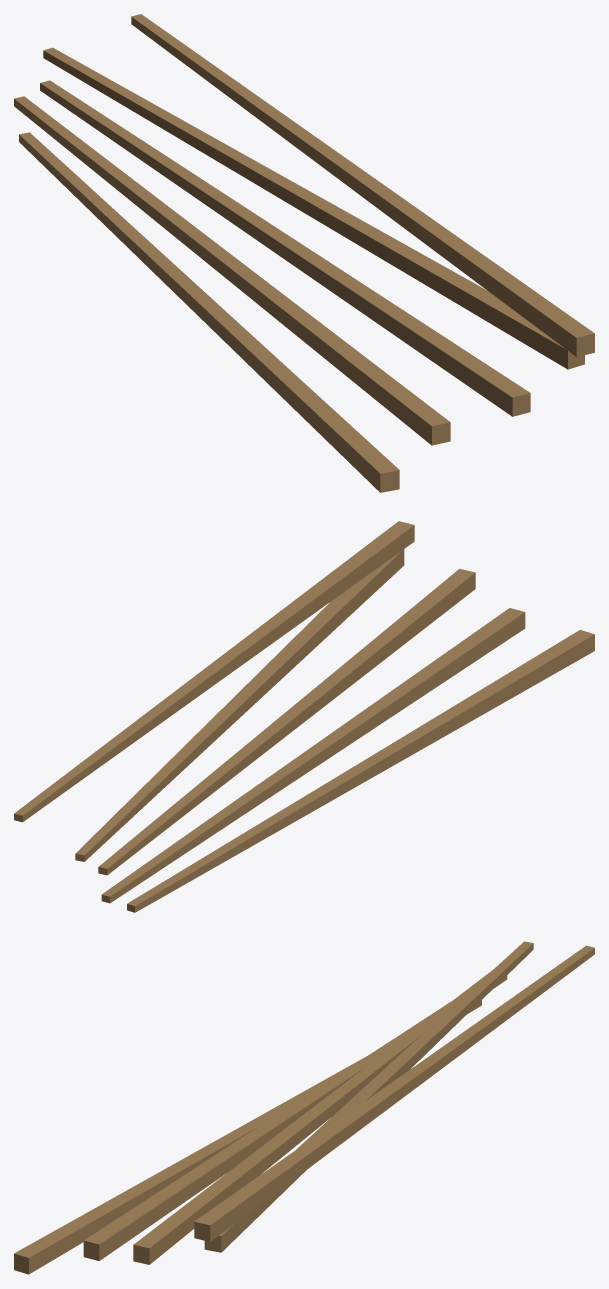
The model's file is ArrowShaftStack5.glb.
The picture shows the model from 3 angles, top to bottom: view 1: azimuth 30°, elevation 25°; view 2: azimuth 150°, elevation 25°; view 3: azimuth 330°, elevation 25°; orthographic projection. The views are drawn at different scales.
Parts seen in each view (by area): view 1: ArrowShaftStack5; view 2: ArrowShaftStack5; view 3: ArrowShaftStack5.
Part boxes in pixels (<box>): ArrowShaftStack5: <box>14,14,594,492</box>; ArrowShaftStack5: <box>14,521,594,912</box>; ArrowShaftStack5: <box>14,941,594,1274</box>.
Size of the model in its own units: 0.1594 by 0.0692 by 0.5781.
